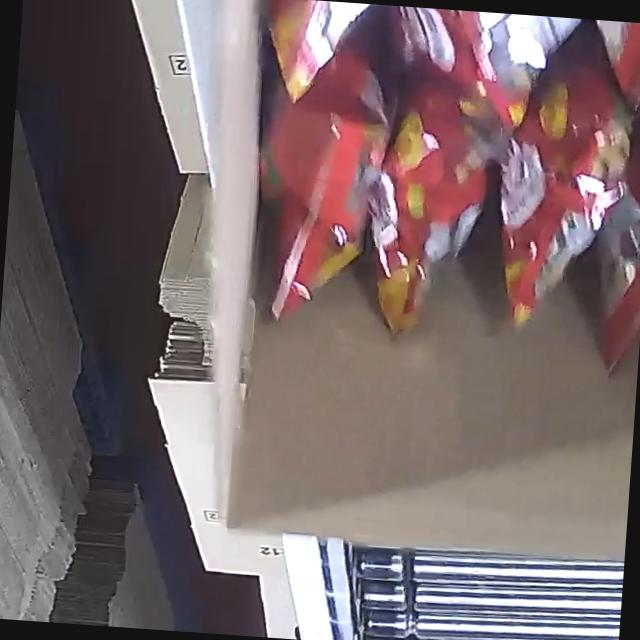masala: (232, 0, 640, 377)
